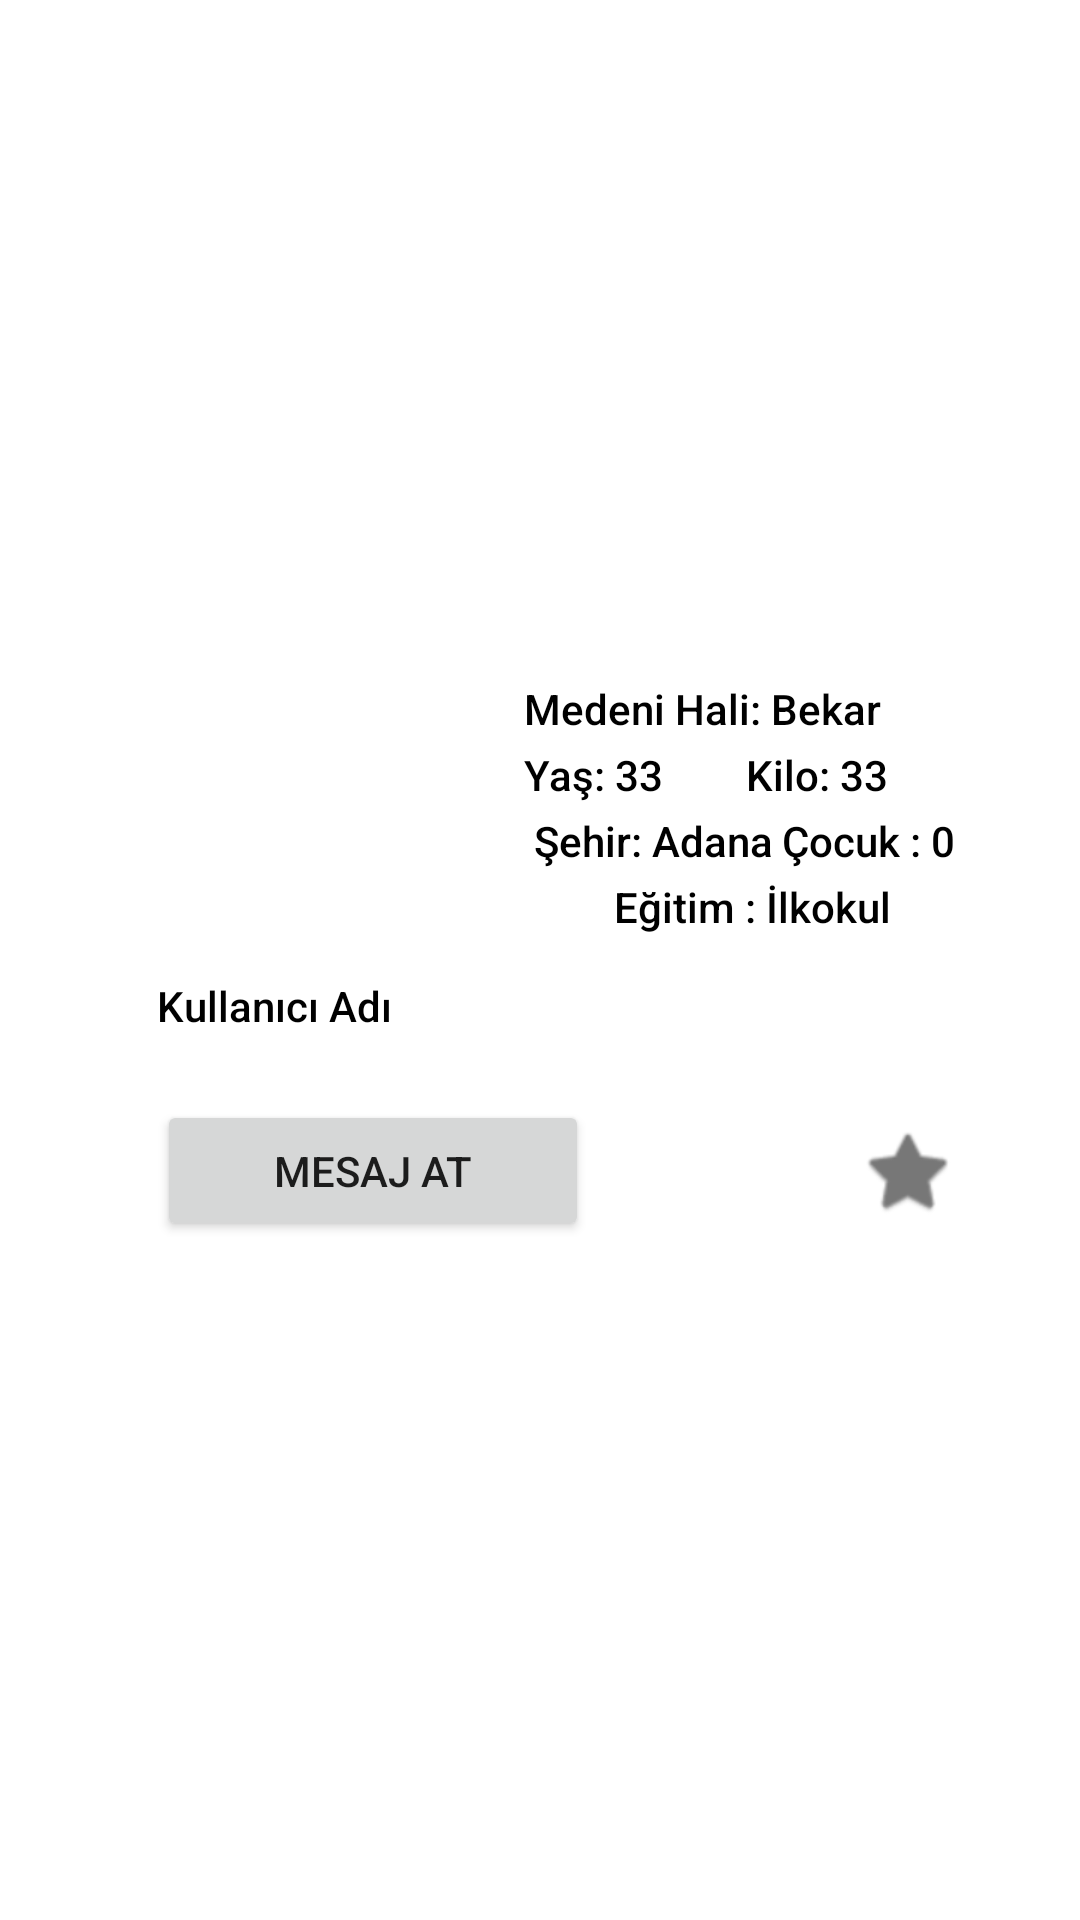

Icon bounding boxes for this 1080w x 1920h phone screenshot, format (x1, y1, x2, y2):
star: (868, 1133, 948, 1210)
